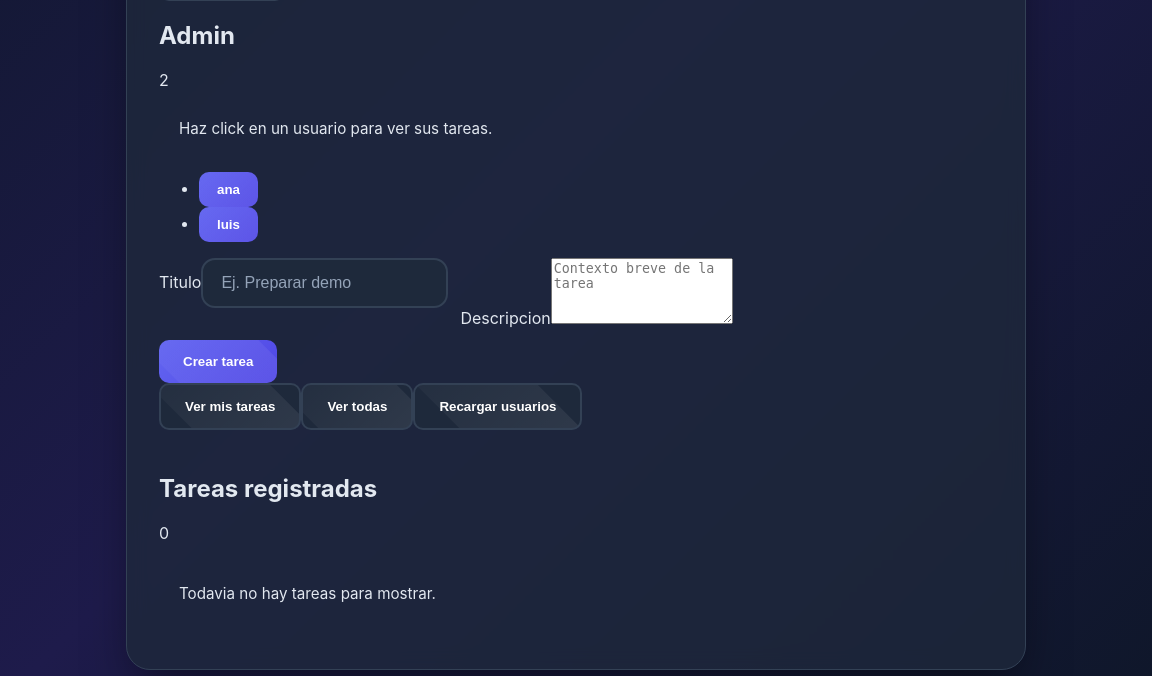
it: App › filtra tareas por el usuario actual
(page scrolled)
Click the button "Ver mis tareas" at coordinates (230, 406), box [159,383,301,430]
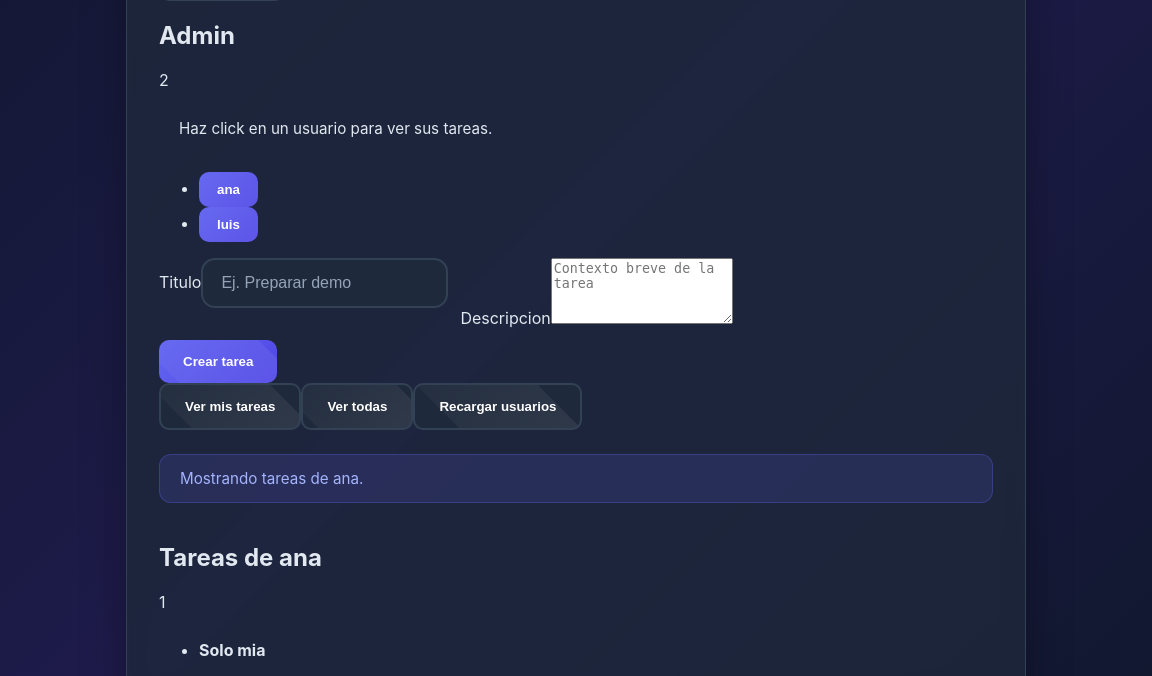
Check: the text "Solo mia" is shown, box [199,640,266,660]
